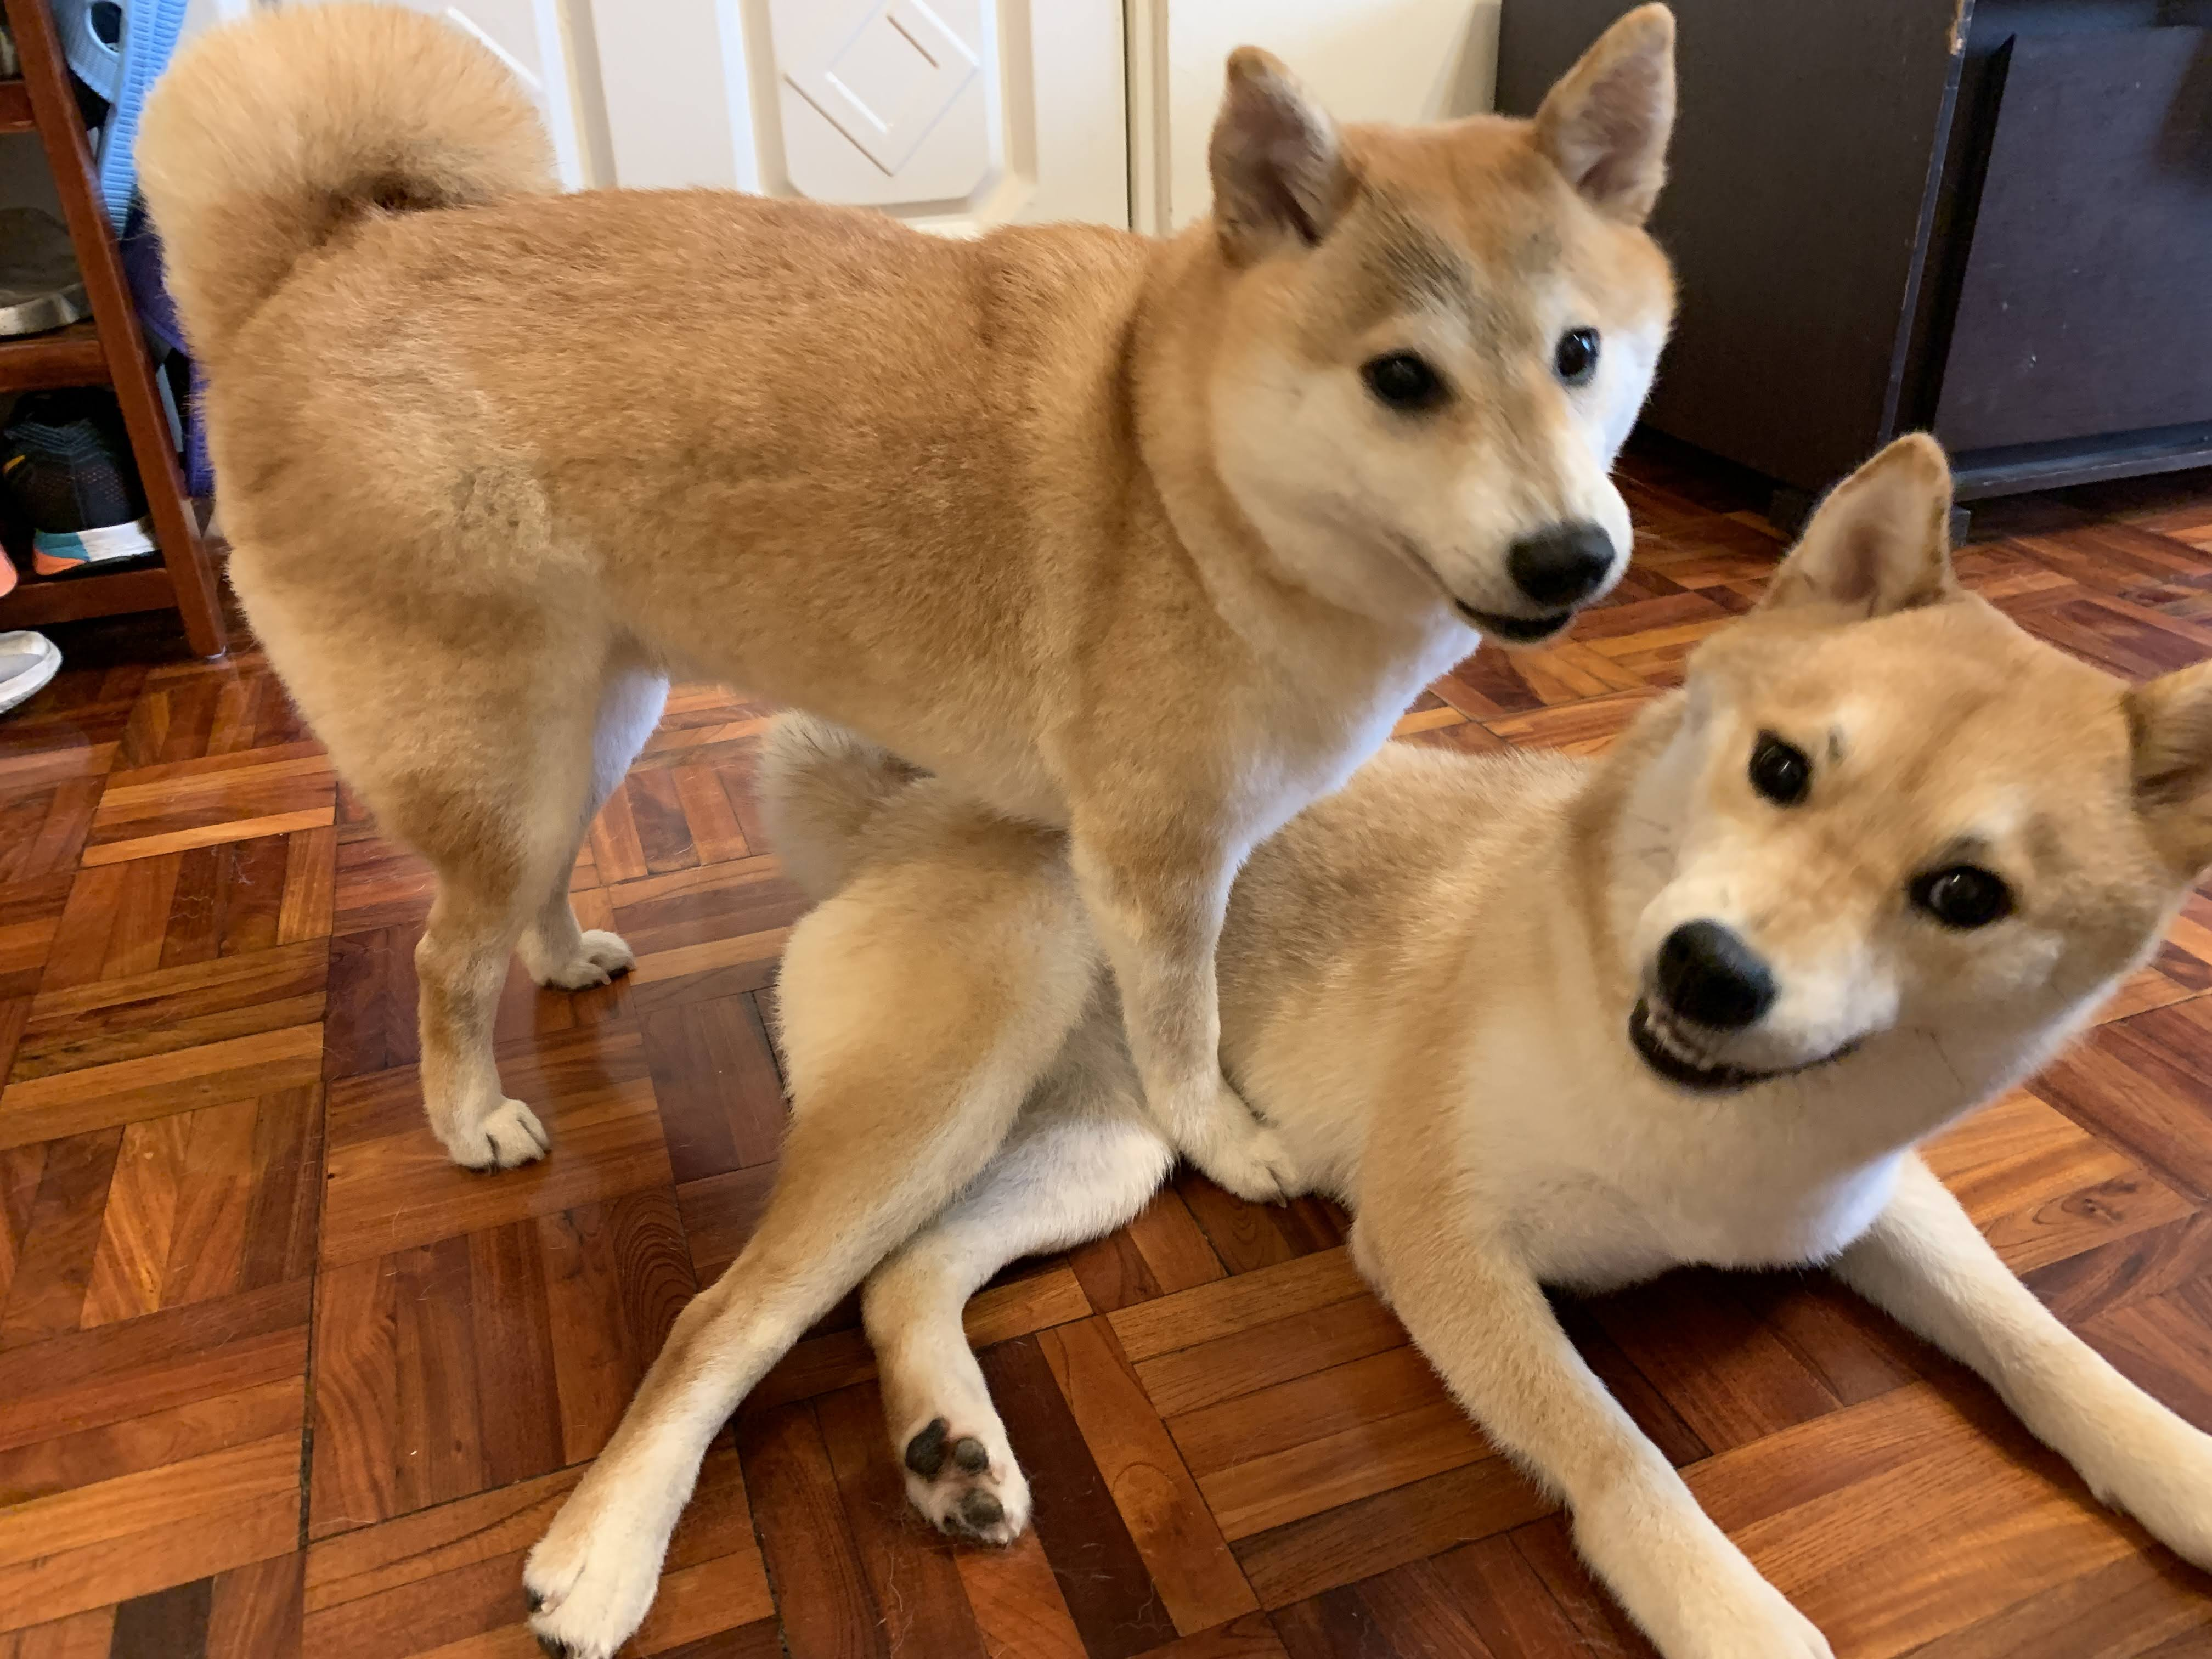Get down: (523, 542, 2212, 1659)
Stand up: (108, 7, 1637, 1218)
